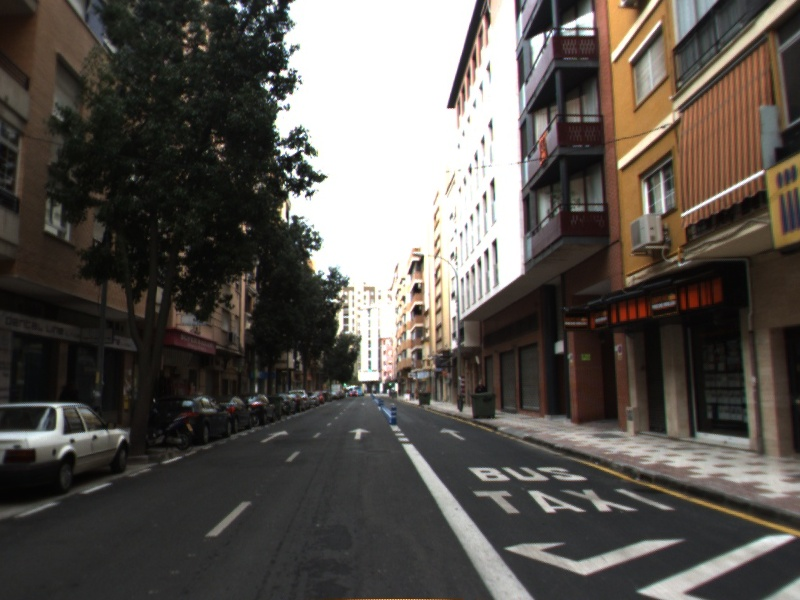STRAIGHT: (259, 428, 291, 444), (437, 426, 468, 442), (346, 426, 373, 441)
